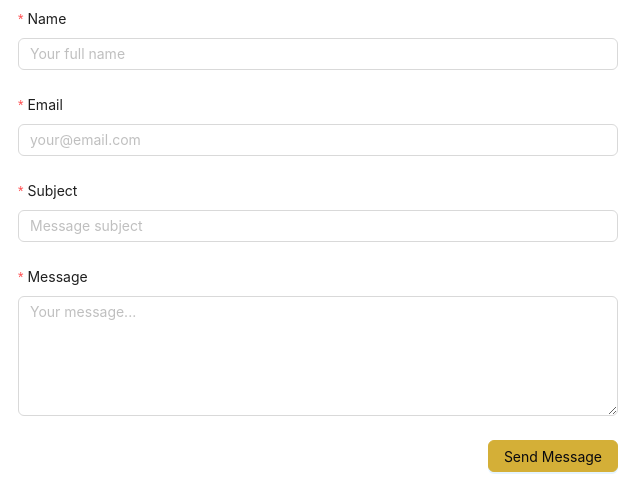
Test: ContactForm › message less than 10 chars shows length error
In the text box with placeholder "Your message...": [318, 356] box x1=18 y1=296 x2=618 y2=416, type "Short"
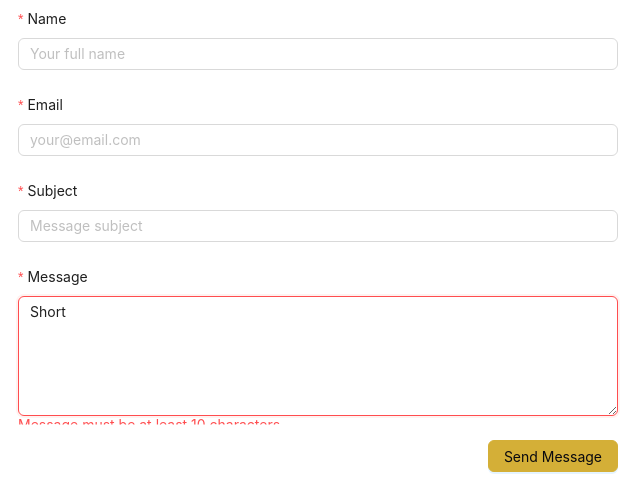
Click the button "Send Message": [553, 456] box x1=488 y1=440 x2=618 y2=472
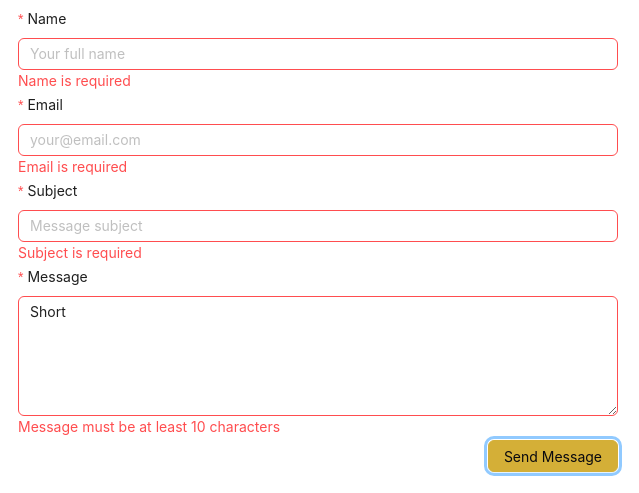
expect the text "Message must be at least 10 characters" is shown: met, box x1=18 y1=418 x2=280 y2=435
